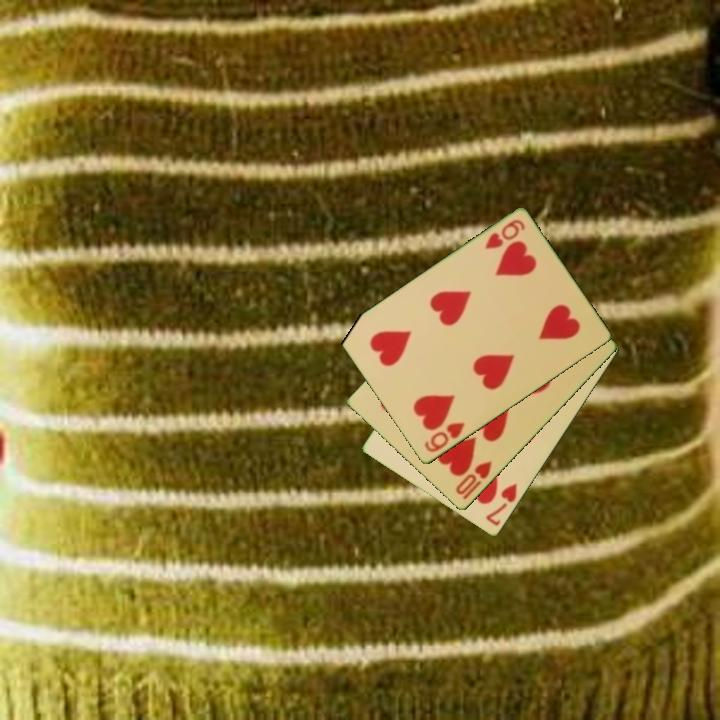10h: (452, 457, 495, 503)
6h: (421, 419, 468, 456), (481, 216, 528, 252)
7h: (483, 480, 520, 529)
